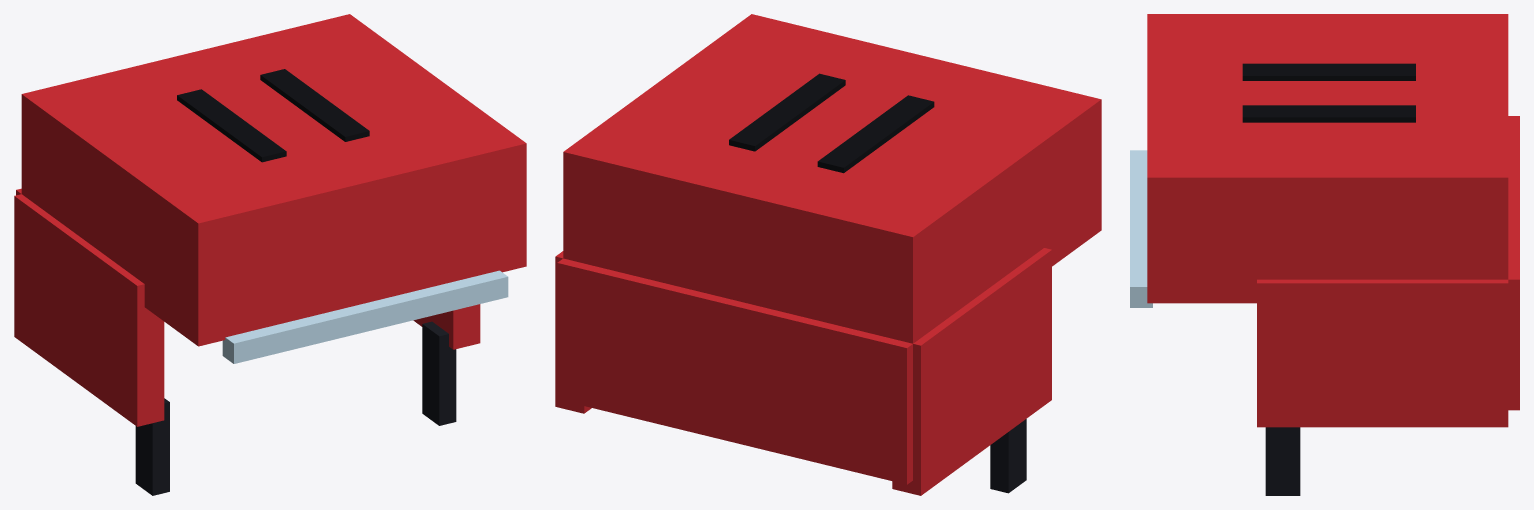
File: helmet_rhinos.glb
3 renders of one model, left to right at view 1: azimuth 30°, elevation 25°; view 2: azimuth 150°, elevation 25°; view 3: azimuth 270°, elevation 25°, orthographic. The views are drawn at different scales.
Visible parts, largest first — view 1: ice_helmet_body; view 2: ice_helmet_body; view 3: ice_helmet_body.
Part boxes in pixels (x1=…): ice_helmet_body: x1=14, y1=14, x2=526, y2=495; ice_helmet_body: x1=555, y1=14, x2=1101, y2=495; ice_helmet_body: x1=1130, y1=14, x2=1519, y2=495.
Bounding box in the file's own units: 0.5385 × 0.4846 × 0.5192.
Materials: 1 (1 with a texture image).
